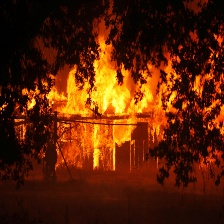fire: (58, 41, 164, 172)
